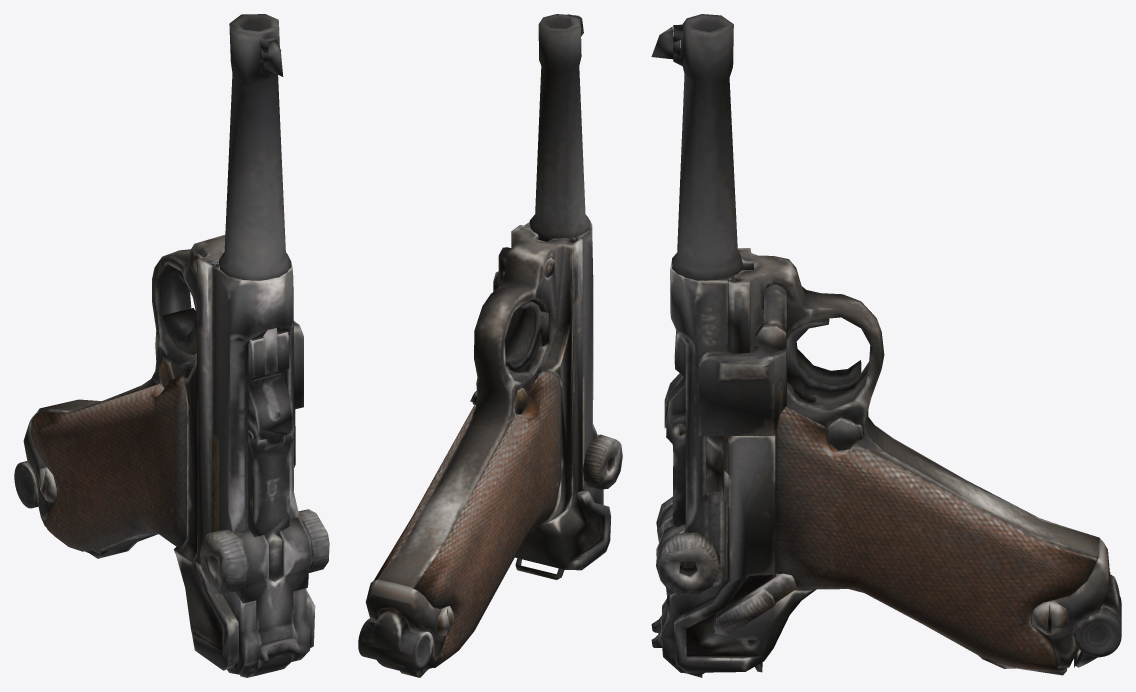
The model's file is Luger.fbx.
3 views of the same model, side by side, from view 1: azimuth 30°, elevation 25°; view 2: azimuth 150°, elevation 25°; view 3: azimuth 270°, elevation 25° (orthographic). The views are drawn at different scales.
Visible parts, largest first — view 1: Luger; view 2: Luger; view 3: Luger.
Part boxes in pixels (<box>): Luger: <box>14,14,329,677</box>; Luger: <box>358,14,622,677</box>; Luger: <box>651,14,1121,677</box>.
Bounding box in the file's own units: 0.0283 × 0.1724 × 0.1137.
